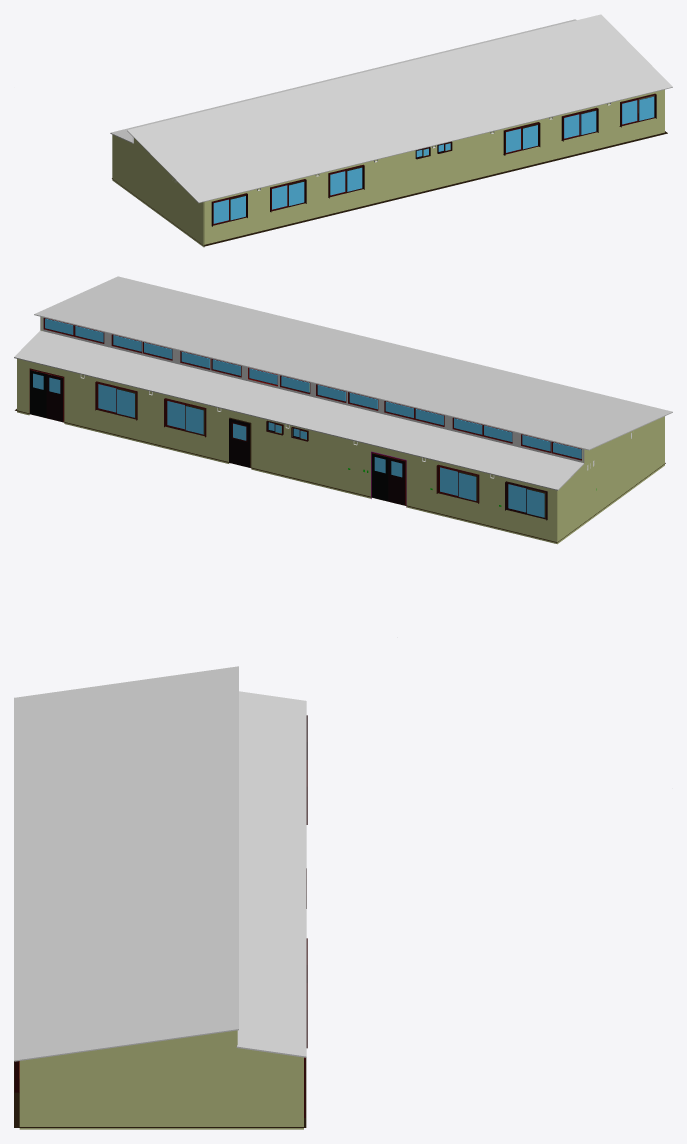
The model's file is YBlock_LP_wSwithes_v3.fbx.
The picture shows the model from 3 angles, top to bottom: view 1: azimuth 30°, elevation 25°; view 2: azimuth 150°, elevation 25°; view 3: azimuth 270°, elevation 25°; orthographic projection. The views are drawn at different scales.
Visible parts, largest first — view 1: Sec1_CeilingLongPanel, Sec3_CeilingLongPanel, Sec1_Wall.002, Sec3_Wall.001, Sec2_CeilingLongPanel, Sec3_Wall, Sec2_Wall.002, Sec3_Floor, Sec1_Floor, Sec3_CeilingShortPanel, Sec1_CeilingShortPanel; view 2: Sec1_CeilingLongPanel, Sec3_CeilingLongPanel, Sec3_Wall.003, Sec1_CeilingShortPanel, Sec3_CeilingShortPanel, Sec1_Wall.003, Sec3_Wall, Sec2_CeilingLongPanel, Sec2_Wall.003, Sec2_CeilingShortPanel, Sec1_Wall, Sec3_Wall.004 (+7 smaller); view 3: Sec1_CeilingLongPanel, Sec3_CeilingLongPanel, Sec1_Wall.001, Sec1_CeilingShortPanel, Sec3_CeilingShortPanel, Sec2_CeilingLongPanel, Sec2_CeilingShortPanel, Sec1_Floor.
Part boxes in pixels (<box>): Sec1_CeilingLongPanel: <box>393,14,672,138</box>; Sec3_CeilingLongPanel: <box>127,79,405,203</box>; Sec1_Wall.002: <box>462,89,664,181</box>; Sec3_Wall.001: <box>203,153,404,246</box>; Sec2_CeilingLongPanel: <box>335,65,463,152</box>; Sec3_Wall: <box>112,134,204,247</box>; Sec2_Wall.002: <box>404,139,462,195</box>; Sec3_Floor: <box>112,166,435,246</box>; Sec1_Floor: <box>434,101,667,189</box>; Sec3_CeilingShortPanel: <box>110,83,314,143</box>; Sec1_CeilingShortPanel: <box>371,19,576,69</box>; Sec1_CeilingLongPanel: <box>34,276,361,374</box>; Sec3_CeilingLongPanel: <box>346,352,672,450</box>; Sec3_Wall.003: <box>322,433,557,543</box>; Sec1_CeilingShortPanel: <box>14,330,278,416</box>; Sec3_CeilingShortPanel: <box>321,405,583,490</box>; Sec1_Wall.003: <box>17,359,253,469</box>; Sec3_Wall: <box>557,416,664,543</box>; Sec2_CeilingLongPanel: <box>278,336,429,390</box>; Sec2_Wall.003: <box>254,416,322,486</box>; Sec2_CeilingShortPanel: <box>253,389,346,432</box>; Sec1_Wall: <box>40,316,279,388</box>; Sec3_Wall.004: <box>347,391,584,463</box>; Sec1_CeilingLongPanel: <box>14,869,238,1061</box>; Sec3_CeilingLongPanel: <box>14,666,238,856</box>; Sec1_Wall.001: <box>19,1030,303,1129</box>; Sec1_CeilingShortPanel: <box>236,890,306,1057</box>; Sec3_CeilingShortPanel: <box>239,691,306,855</box>; Sec2_CeilingLongPanel: <box>14,825,238,900</box>; Sec2_CeilingShortPanel: <box>239,846,306,899</box>; Sec1_Floor: <box>14,1058,306,1127</box>.
Size of the model in its own units: 2805 by 2154 by 380.
15 materials, 1 textured.
